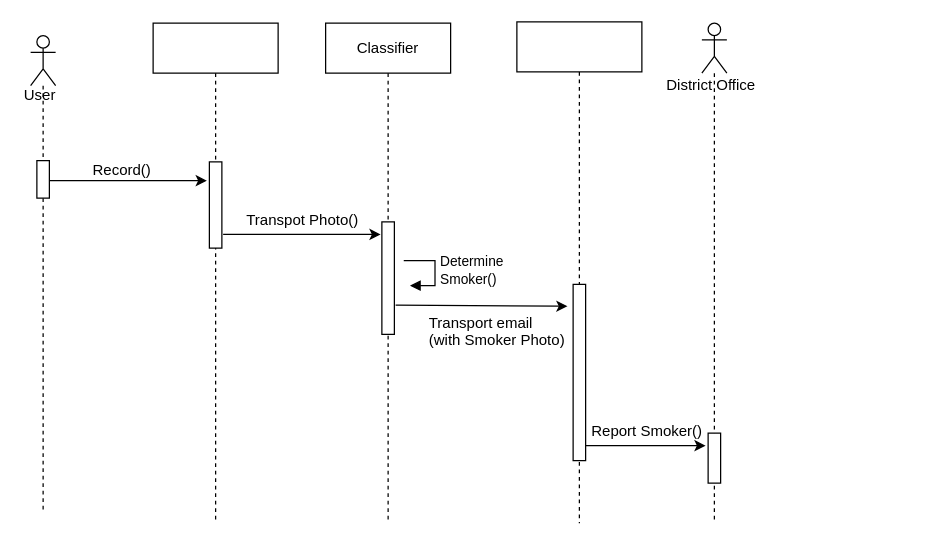
Some shapes in this 949 by 545 pixel diagram are drawn without their labels. Here are the shapes that lost their labels. From the top down, the centre of each, then its label:
At [215,272]: "Smartphone".
At [579,272]: "Report".
